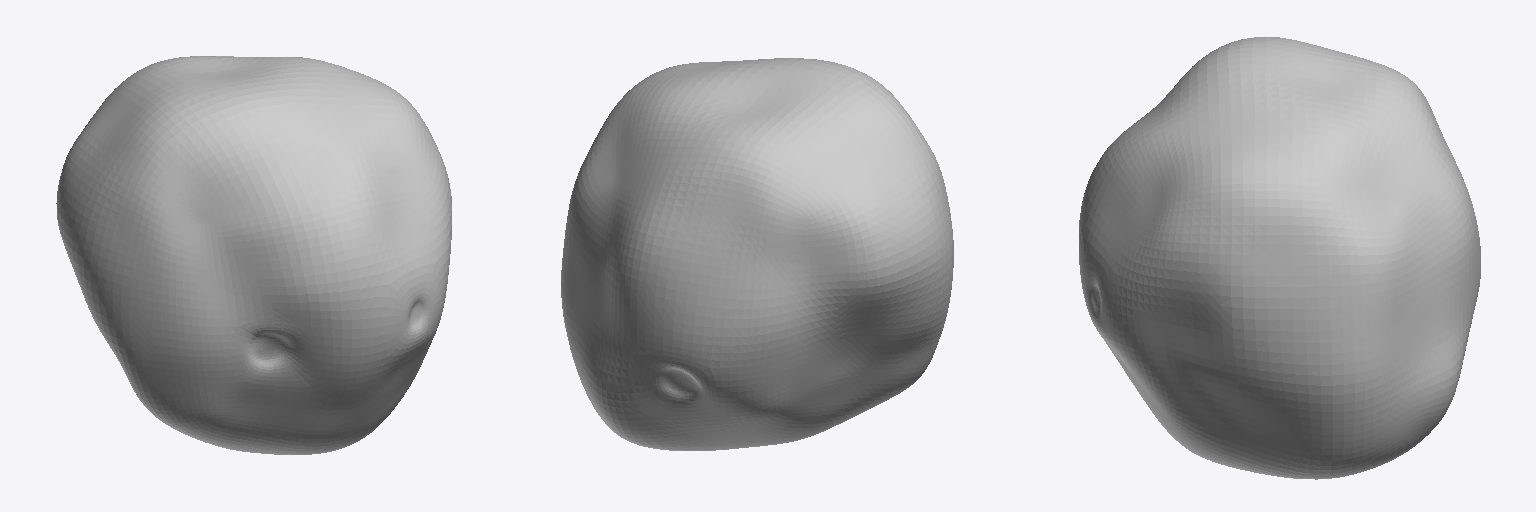
File: asteroid.obj
3 views of the same model, side by side, from view 1: azimuth 30°, elevation 25°; view 2: azimuth 150°, elevation 25°; view 3: azimuth 270°, elevation 25° (orthographic).
Parts seen in each view (by area): view 1: 10464_Asteroid_v1_Iterations-2; view 2: 10464_Asteroid_v1_Iterations-2; view 3: 10464_Asteroid_v1_Iterations-2.
Boxes of the visible parts, <box> form: 10464_Asteroid_v1_Iterations-2: <box>56,56,451,454</box>; 10464_Asteroid_v1_Iterations-2: <box>561,58,953,450</box>; 10464_Asteroid_v1_Iterations-2: <box>1079,37,1480,479</box>.
Bounding box in the file's own units: 1.37 × 1.38 × 1.38.